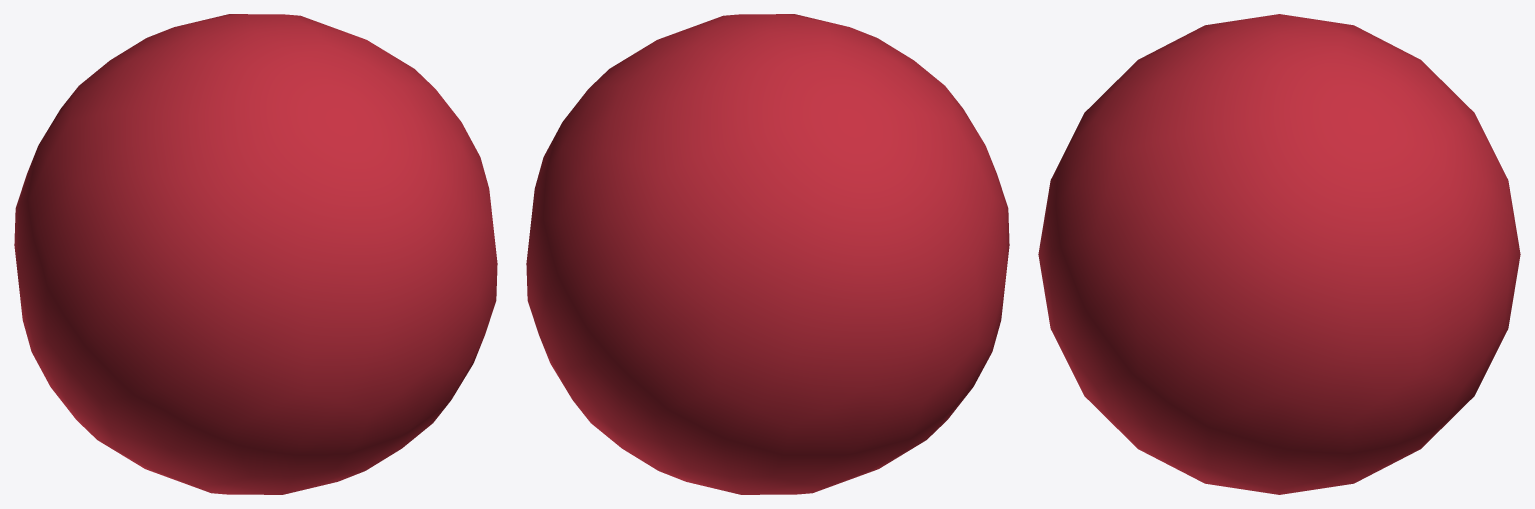
The model's file is pelota.fbx.
The picture shows the model from 3 angles, left to right: view 1: azimuth 30°, elevation 25°; view 2: azimuth 150°, elevation 25°; view 3: azimuth 270°, elevation 25°; orthographic projection.
Parts seen in each view (by area): view 1: pelota; view 2: pelota; view 3: pelota.
Part boxes in pixels (bbox=[...]): pelota: bbox=[14, 14, 497, 494]; pelota: bbox=[526, 14, 1009, 494]; pelota: bbox=[1038, 14, 1520, 494].
Size of the model in its own units: 63.06 by 63.55 by 63.18.
